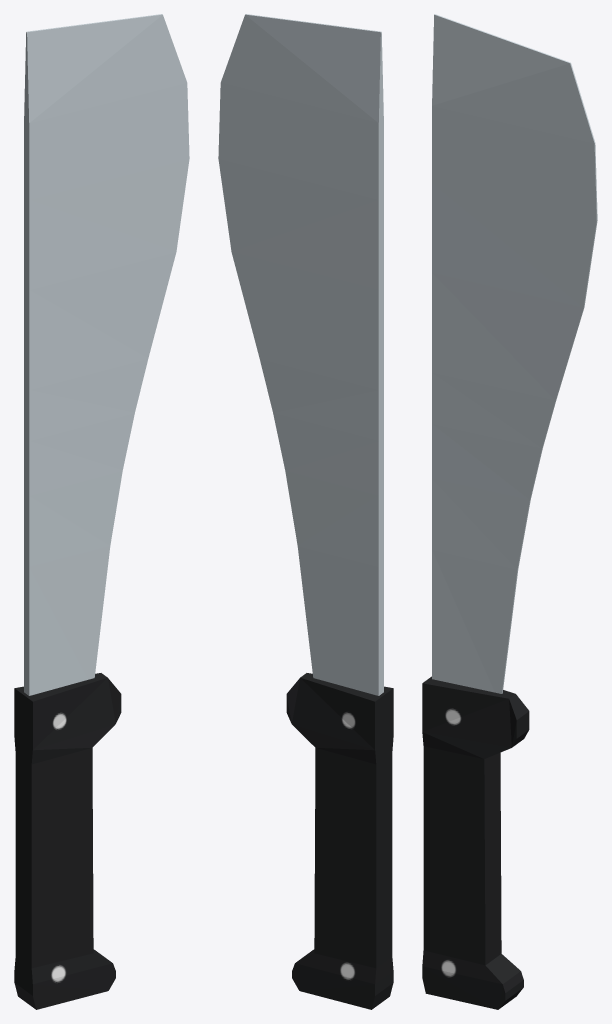
File: Heavy Machete.dae
3 renders of one model, left to right at view 1: azimuth 30°, elevation 25°; view 2: azimuth 150°, elevation 25°; view 3: azimuth 330°, elevation 25°, orthographic.
Parts seen in each view (by area): view 1: Cube.007; view 2: Cube.007; view 3: Cube.007.
Boxes of the visible parts, x1,y1,x2,y2 form: Cube.007: (14, 14, 189, 1009); Cube.007: (218, 14, 393, 1009); Cube.007: (422, 14, 597, 1009).
Bounding box in the file's own units: 0.1592 × 0.0307 × 0.8927.
Materials: 2 (1 with a texture image).
